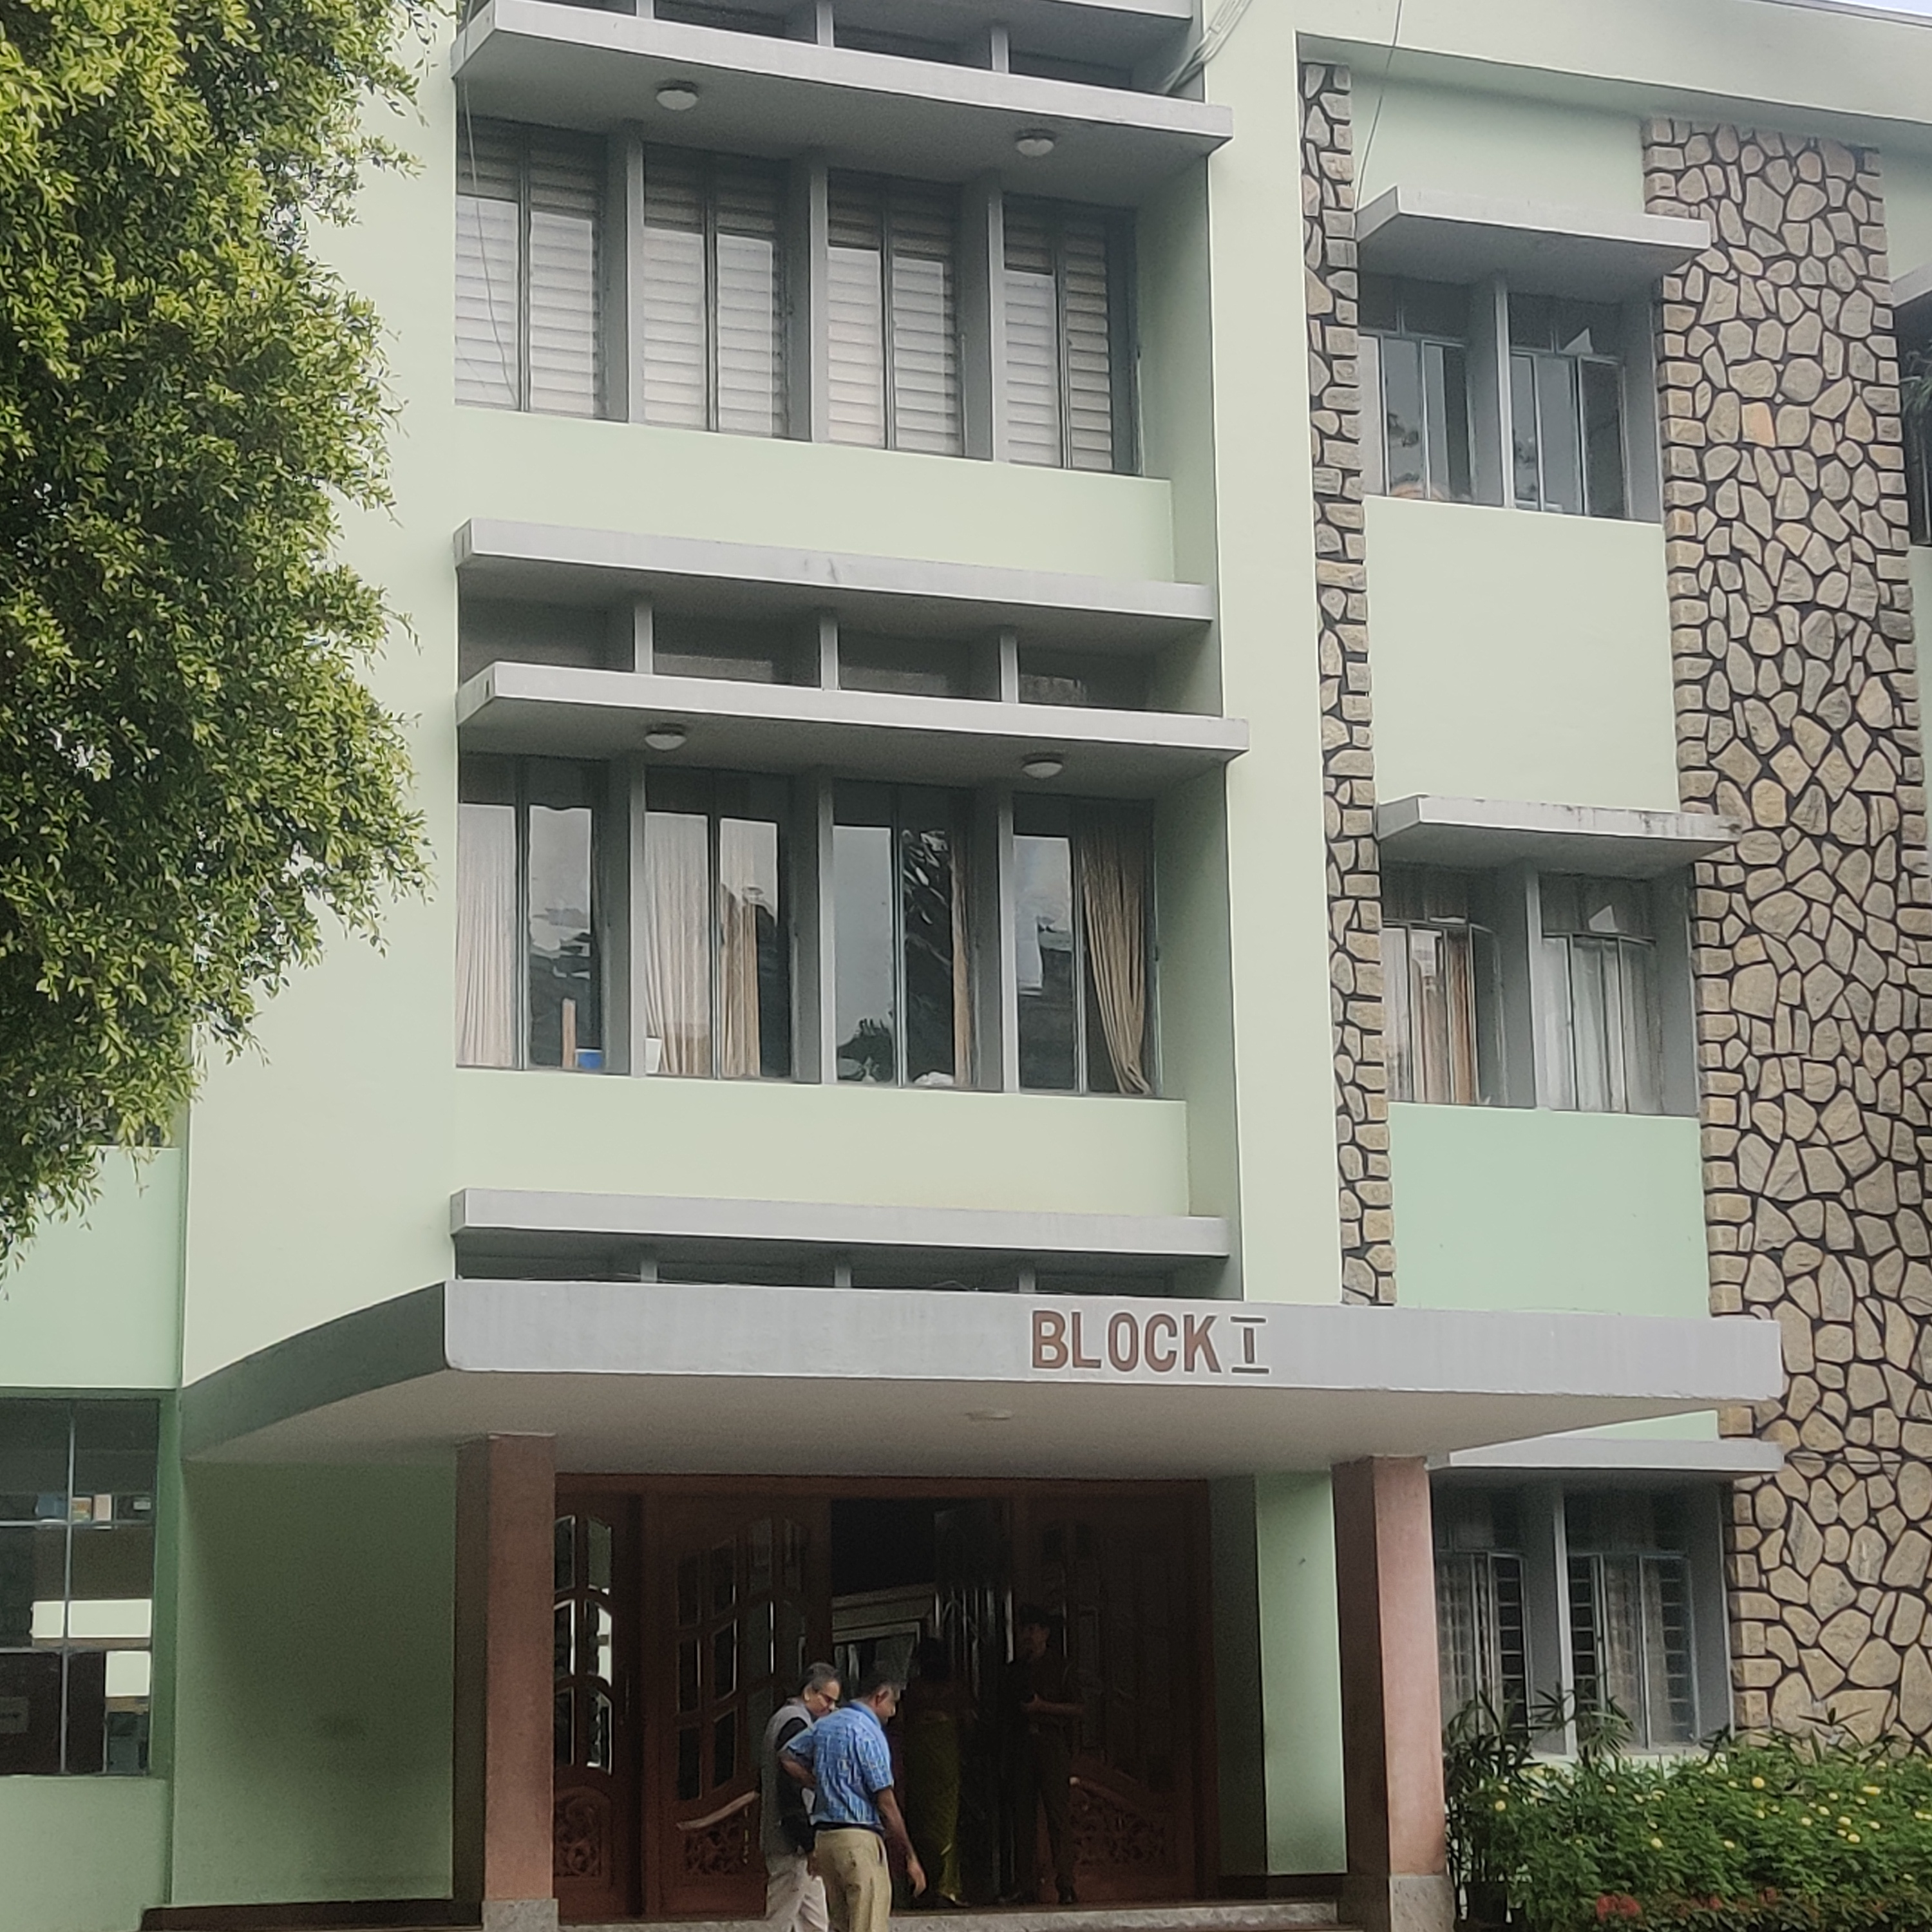Block 1: (441, 4, 1932, 1882)
